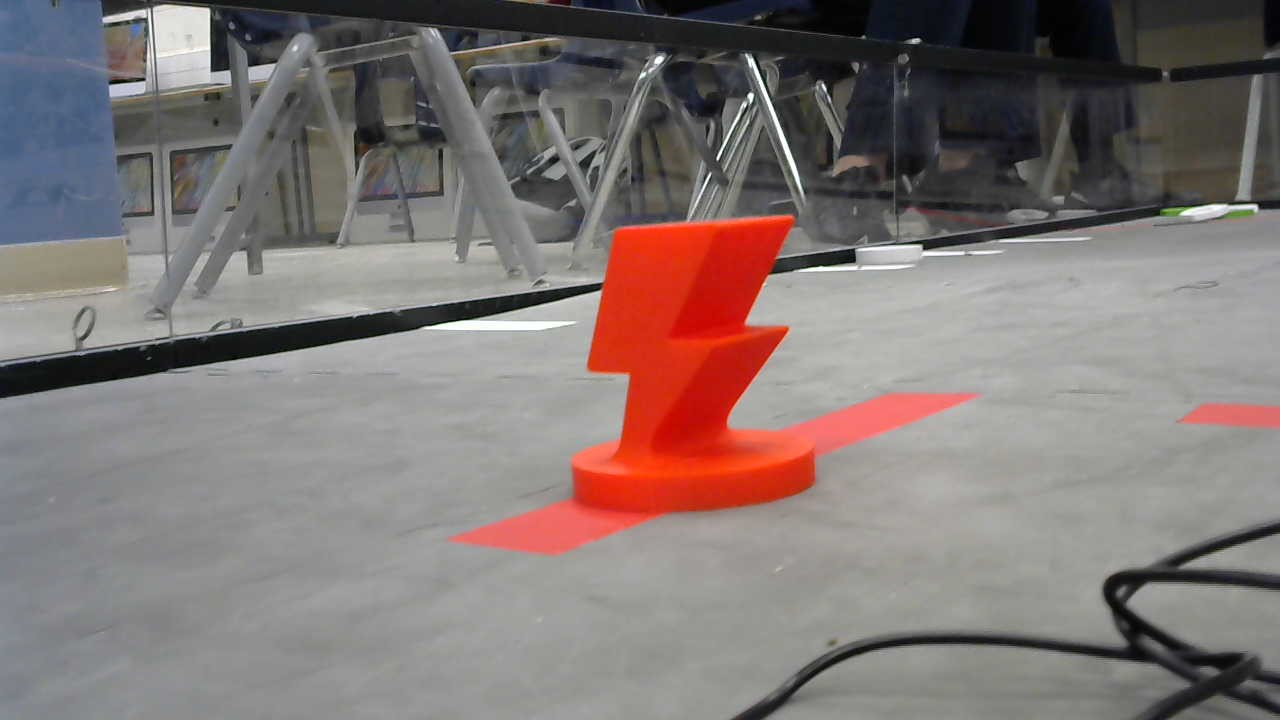redobject: (569, 210, 820, 521)
